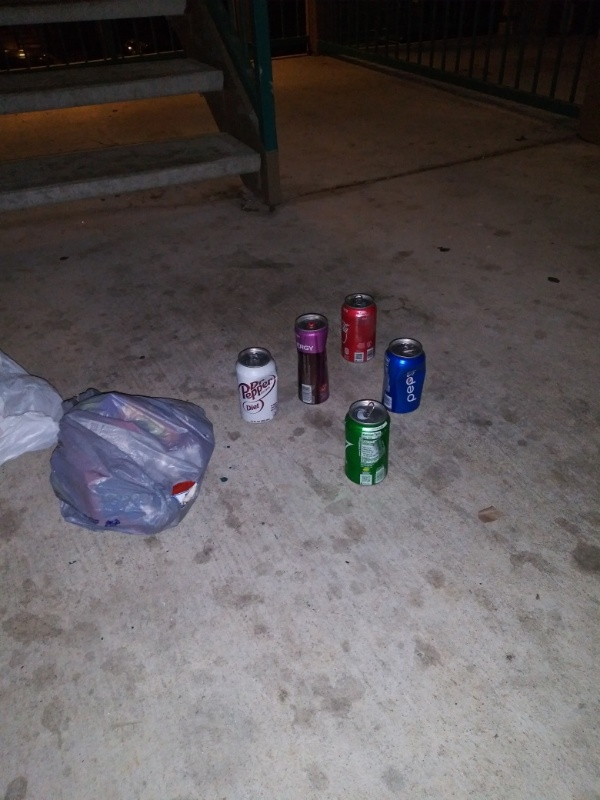can: (341, 395, 393, 486), (291, 312, 335, 408), (233, 346, 283, 424), (379, 336, 427, 415), (339, 290, 382, 366)
